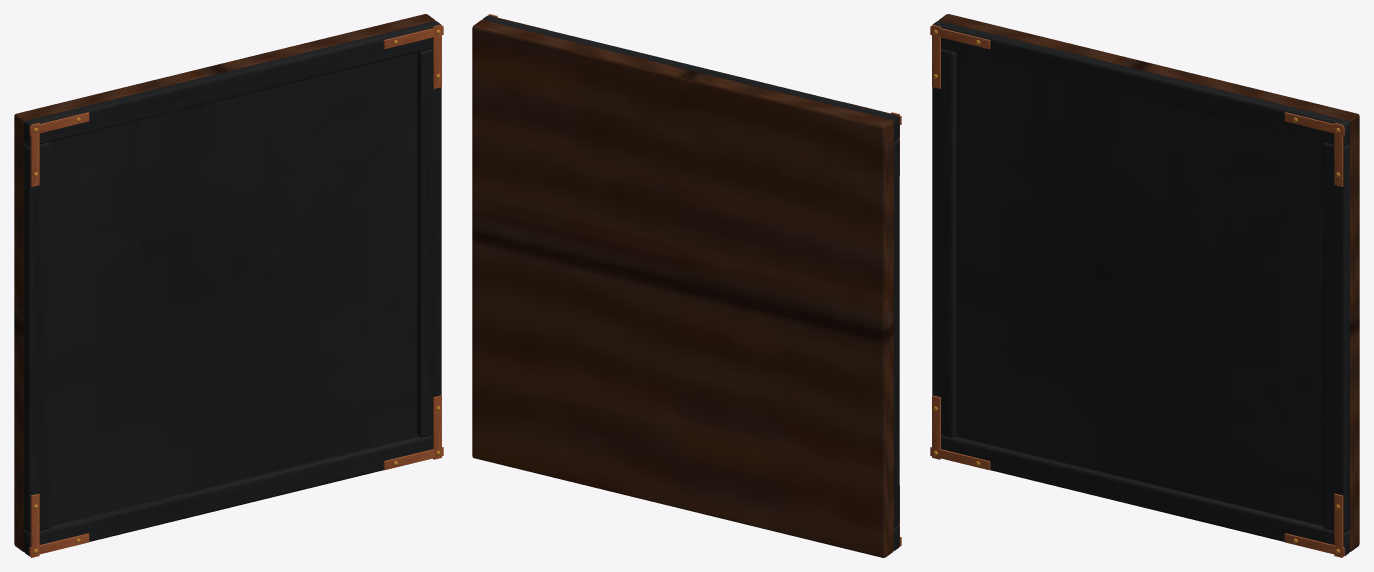
The model's file is furniture_plaque.glb.
The picture shows the model from 3 angles, left to right: view 1: azimuth 30°, elevation 25°; view 2: azimuth 150°, elevation 25°; view 3: azimuth 330°, elevation 25°; orthographic projection.
Visible parts, largest first — view 1: plaque_writeable_face, plaque_frame, plaque_backing, plaque_copper_corner_bands; view 2: plaque_backing, plaque_frame; view 3: plaque_writeable_face, plaque_frame, plaque_backing, plaque_copper_corner_bands.
Part boxes in pixels (<box>): plaque_writeable_face: <box>49,52,417,526</box>; plaque_frame: <box>24,21,441,555</box>; plaque_backing: <box>14,14,435,551</box>; plaque_copper_corner_bands: <box>29,24,443,557</box>; plaque_backing: <box>472,20,893,557</box>; plaque_frame: <box>482,15,899,550</box>; plaque_writeable_face: <box>956,52,1324,526</box>; plaque_frame: <box>932,21,1349,555</box>; plaque_backing: <box>938,14,1359,551</box>; plaque_copper_corner_bands: <box>930,24,1344,557</box>.
Size of the model in its own units: 1.12 by 1.12 by 0.0839.
Materials: 4 (4 with a texture image).
